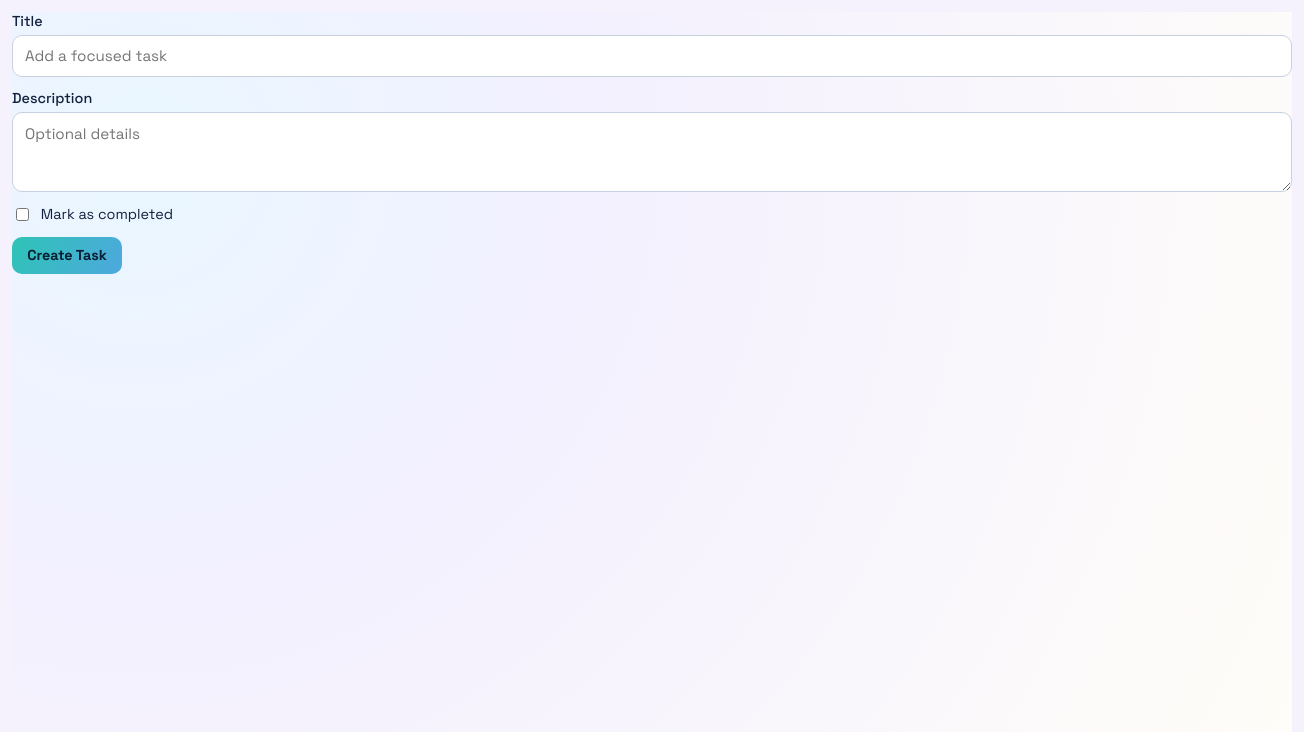
Scenario: TaskForm › shows validation error for blank title
This screenshot has width=1304, height=732.
Click the button "Create Task".
click(67, 255)  # box [12,236,122,274]
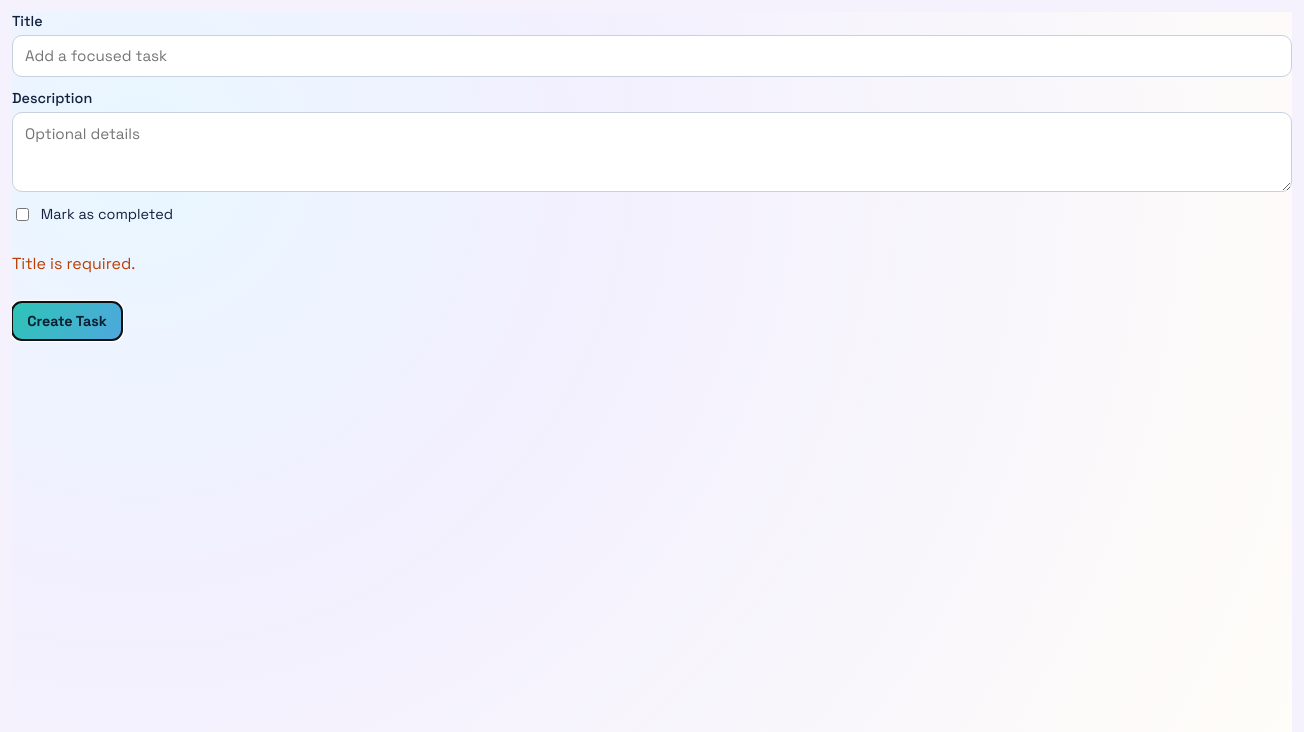
Check: the text "Title is required." is shown, box [12,252,135,274]
